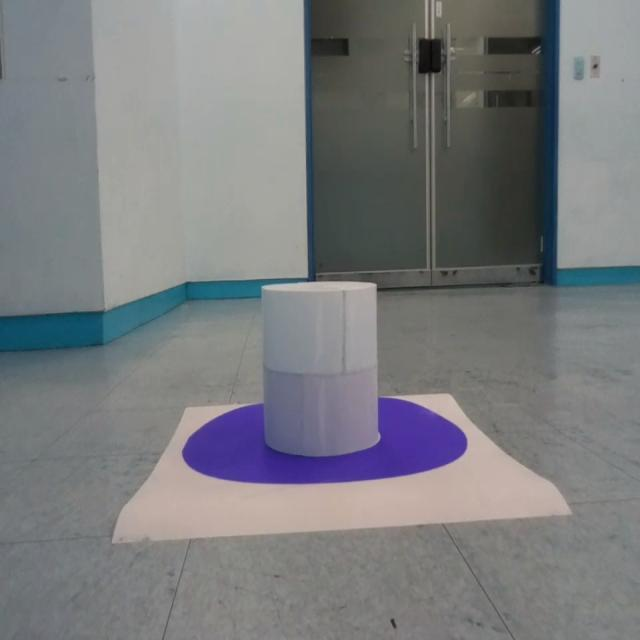cylinder: (261, 280, 380, 457)
